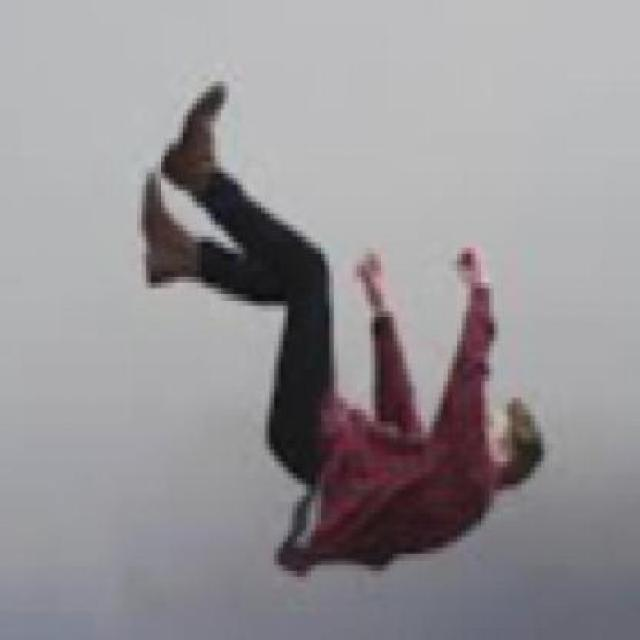fall: (142, 73, 546, 582)
